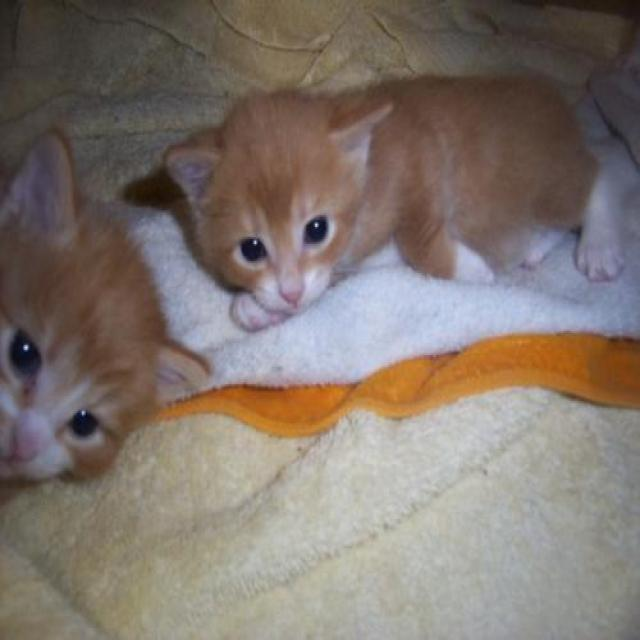Cats: (161, 70, 625, 333), (0, 122, 212, 486)
